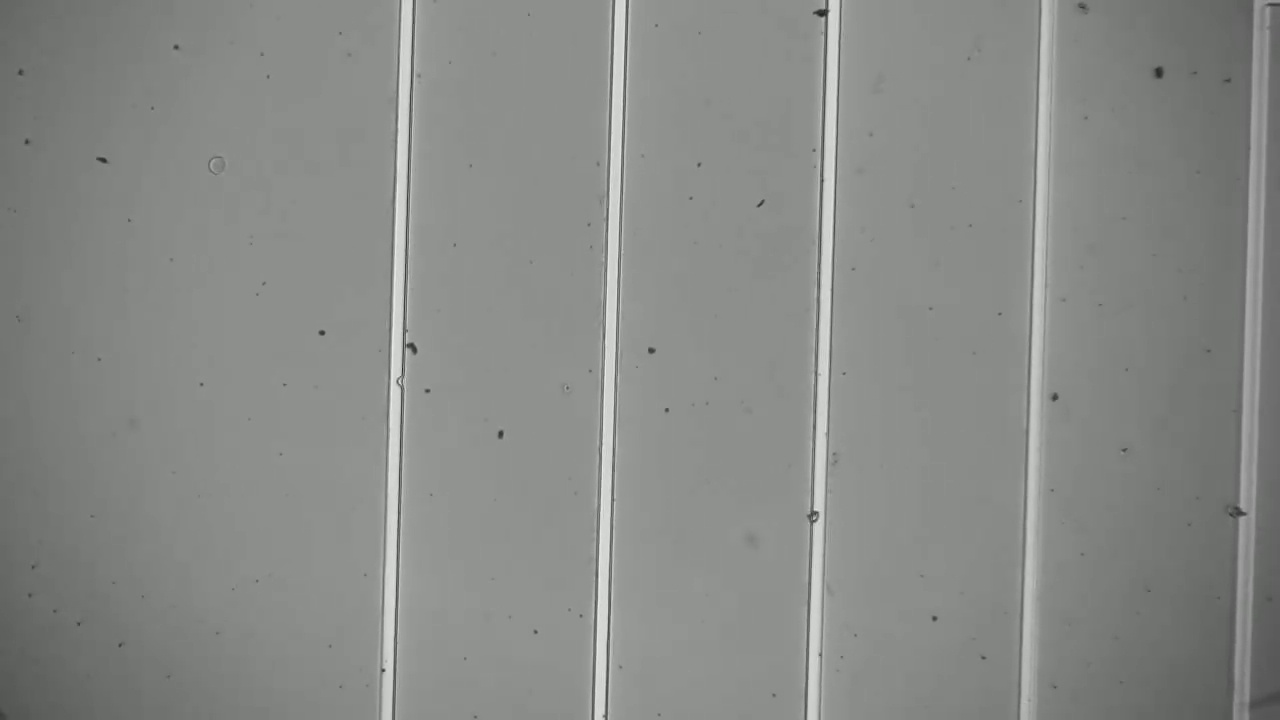edge_bite: (378, 368, 410, 394)
stains_enbedded: (1221, 493, 1264, 528), (798, 504, 833, 530)
